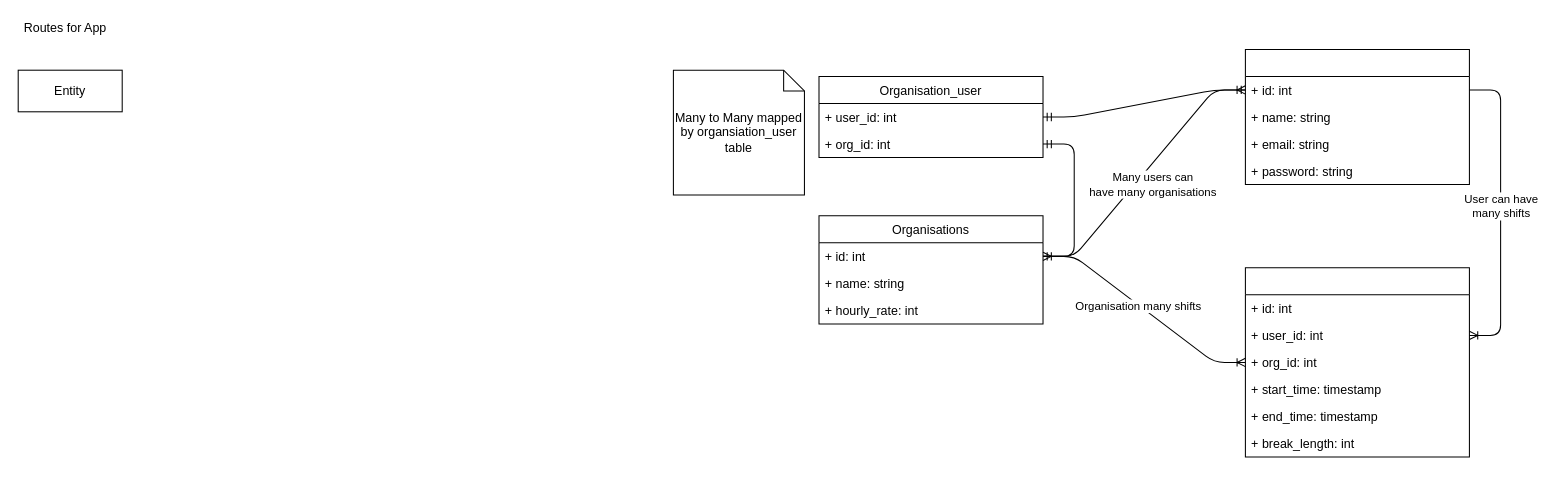
This 1556x477 diagram has some shape labels left out. Each missing label, with the box of its shape:
shifts: (1244, 267, 1469, 457)
Users: (1244, 48, 1469, 185)
